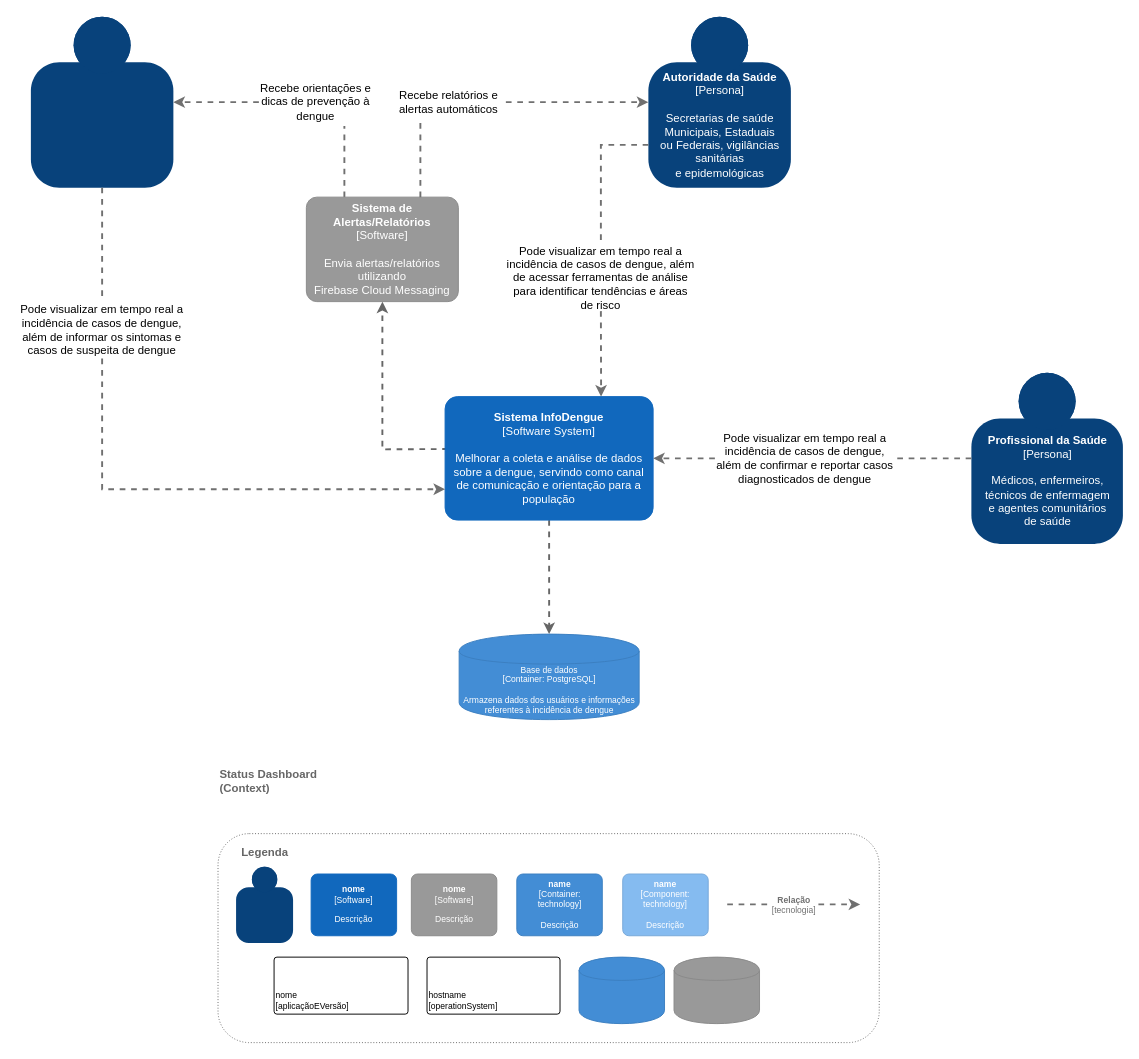
Image size: 1139x1059. Some labels were removed from this diagram. The shapes that lost their labels are listed below. From the top down, each one's centre as x and y in pixels, then its label:
At point 101,101: "Cidadão [Persona] Usuário padrão do sistema".
At point 264,904: "nome [Persona] Descrição".
At point 621,990: "Database [Container: Technology] Descrição".
At point 716,990: "Database [Container: Technology] External".
